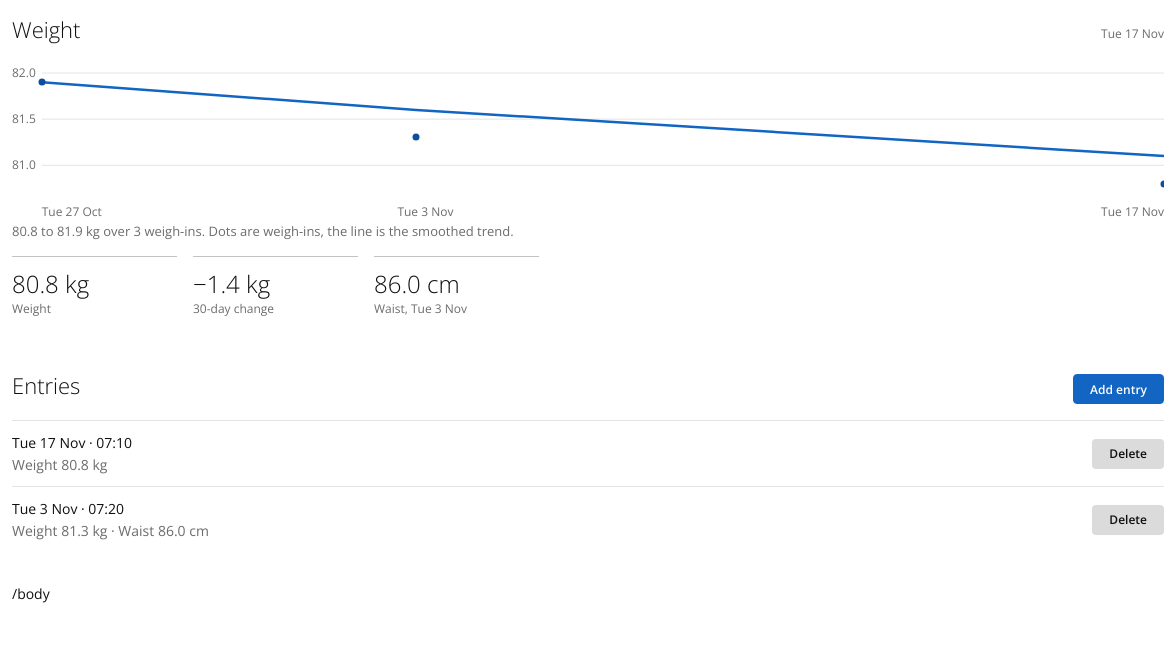
Test: BodyPage (3k) › validates the form before sending anything
Later steps or results of the test are not shown.
Check: the text "80.8 kg" is shown, box [12, 267, 89, 300]
Click the button "Add entry" at (1119, 389), box [1073, 374, 1164, 404]
(page scrolled)
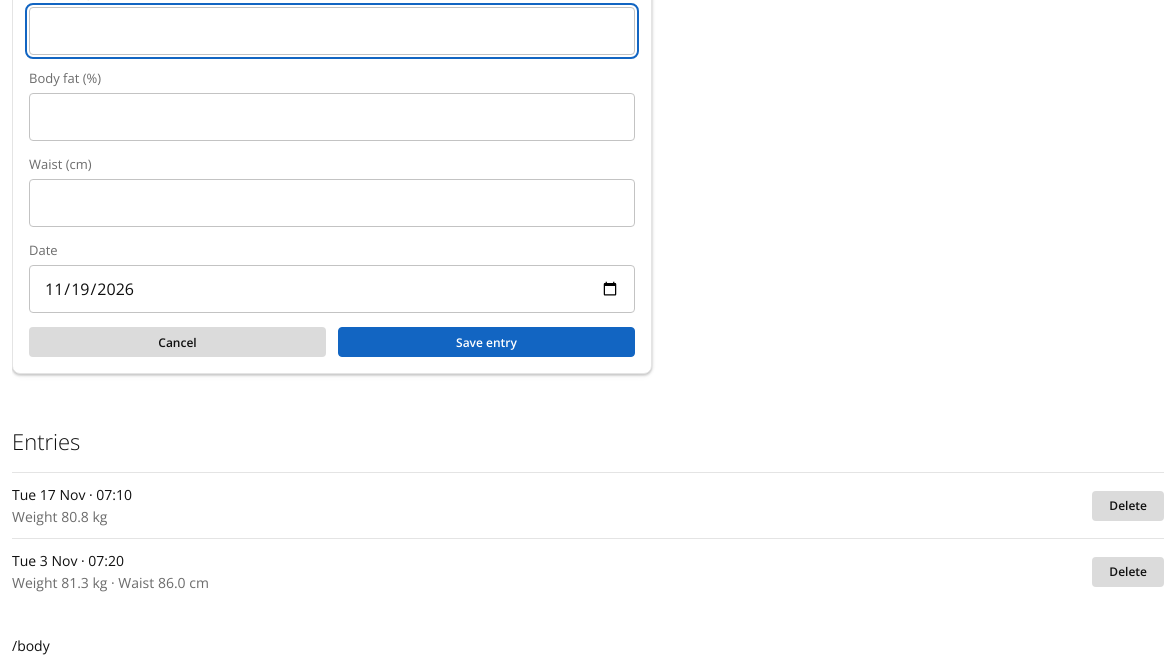
Click the button "Save entry" at (486, 342), box [338, 327, 635, 357]
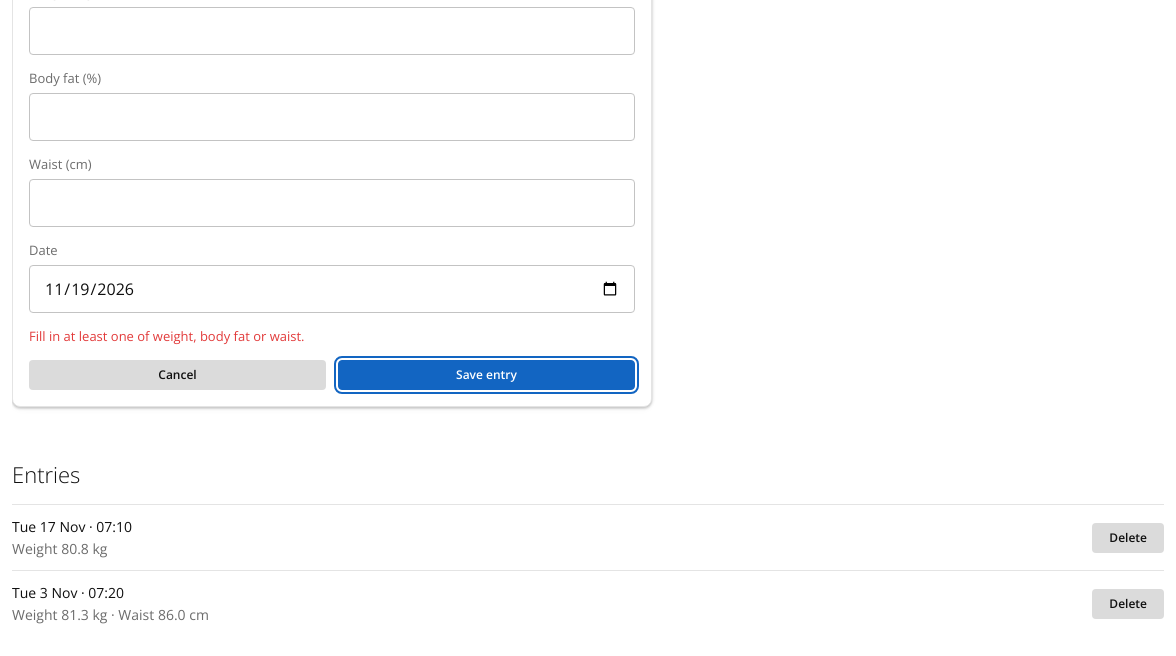
Check: the message shows "Fill in at least one", box [29, 327, 304, 345]
